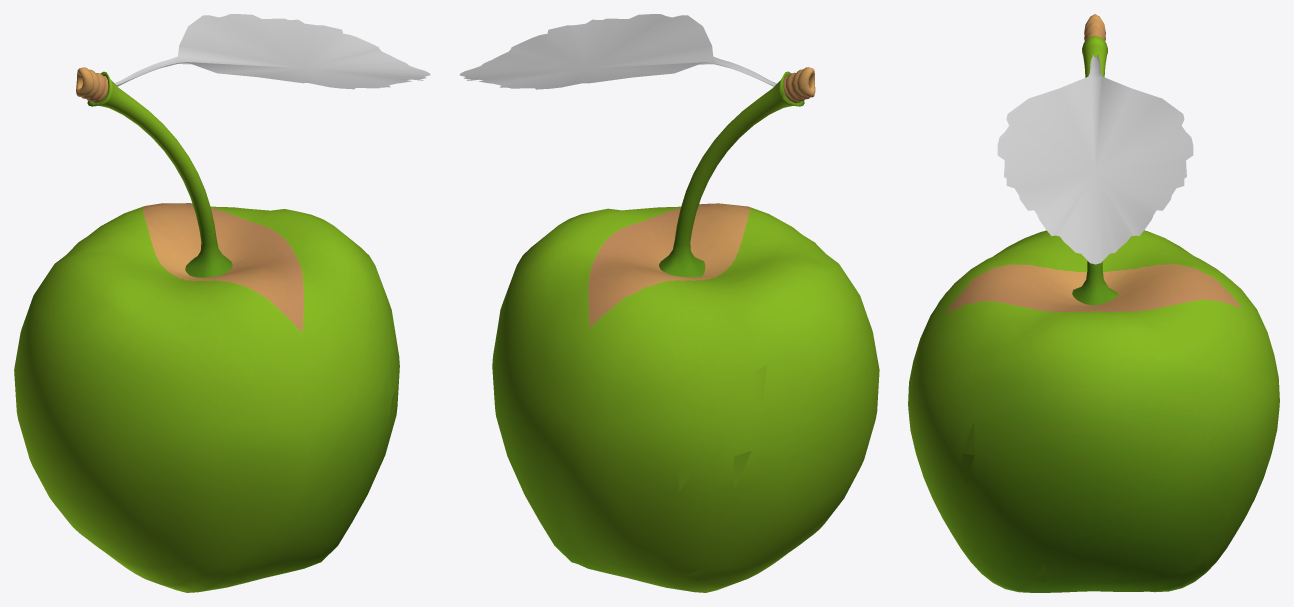
File: fruit.FBX
3 renders of one model, left to right at view 1: azimuth 30°, elevation 25°; view 2: azimuth 150°, elevation 25°; view 3: azimuth 270°, elevation 25°, orthographic. The views are drawn at different scales.
Visible parts, largest first — view 1: dweller_fruit_remade_dweller_fruit; view 2: dweller_fruit_remade_dweller_fruit; view 3: dweller_fruit_remade_dweller_fruit.
Part boxes in pixels (x1,y1,x2,y2): dweller_fruit_remade_dweller_fruit: (14, 14, 430, 592); dweller_fruit_remade_dweller_fruit: (459, 14, 879, 592); dweller_fruit_remade_dweller_fruit: (908, 14, 1279, 592).
Size of the model in its own units: 15.7 by 19.29 by 13.35.
